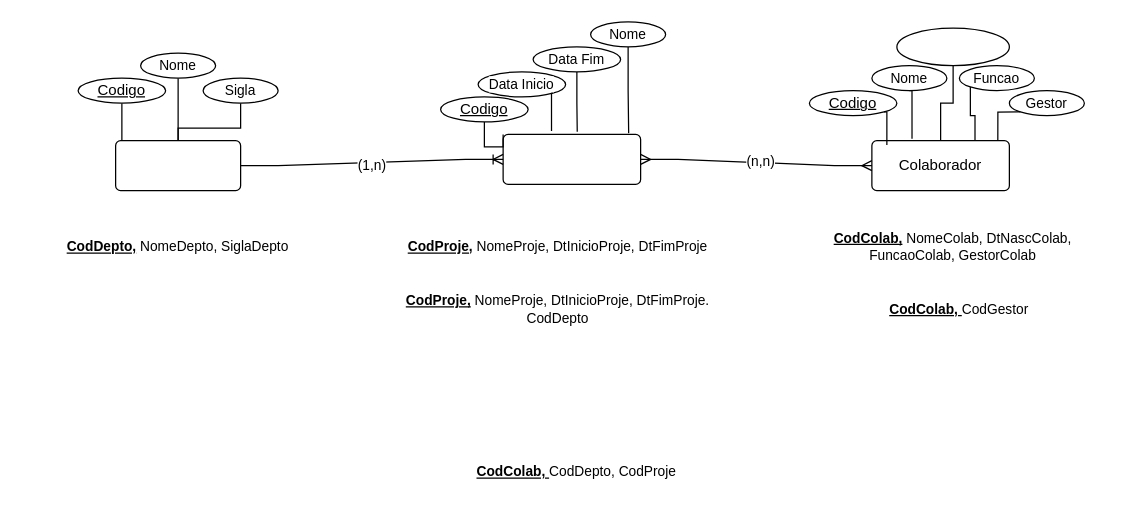
Image size: 1136x513. Some labels were removed from this diagram. Each missing label, with the centre of its shape:
"Data nascimento" goes at point 952,46.
"Departamento" goes at point 177,165.
"Projeto" goes at point 571,158.
